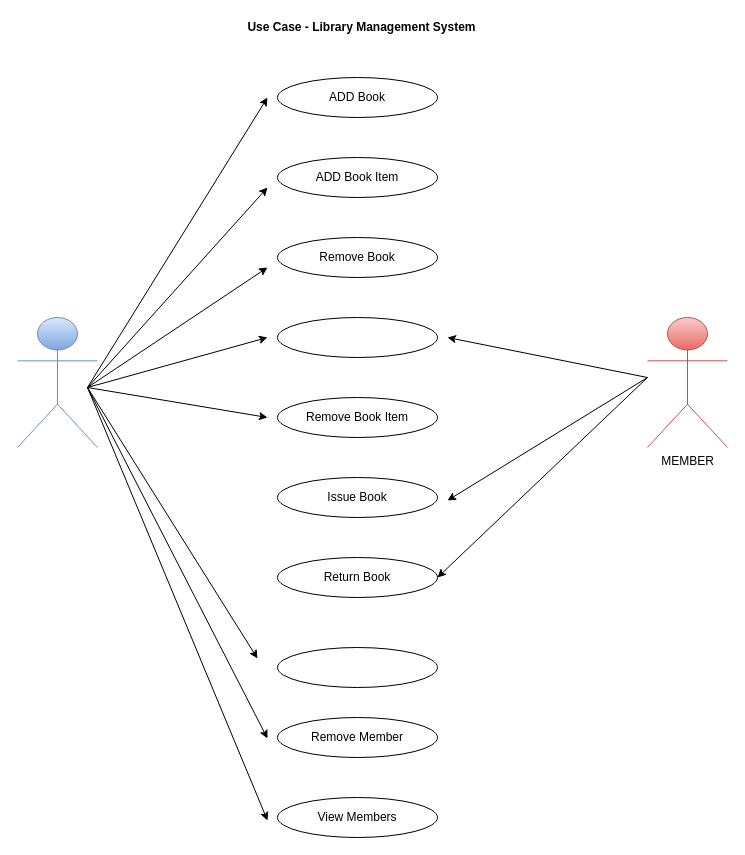
The diagram is 745 pixels wide and 855 high, and some of its shapes have lost their labels. Here are the shapes that lost their labels. From the top down, the box of each, then its label:
(276, 316, 438, 358): View Books
(16, 316, 98, 448): LIBRARIAN
(276, 646, 438, 688): Add Member
